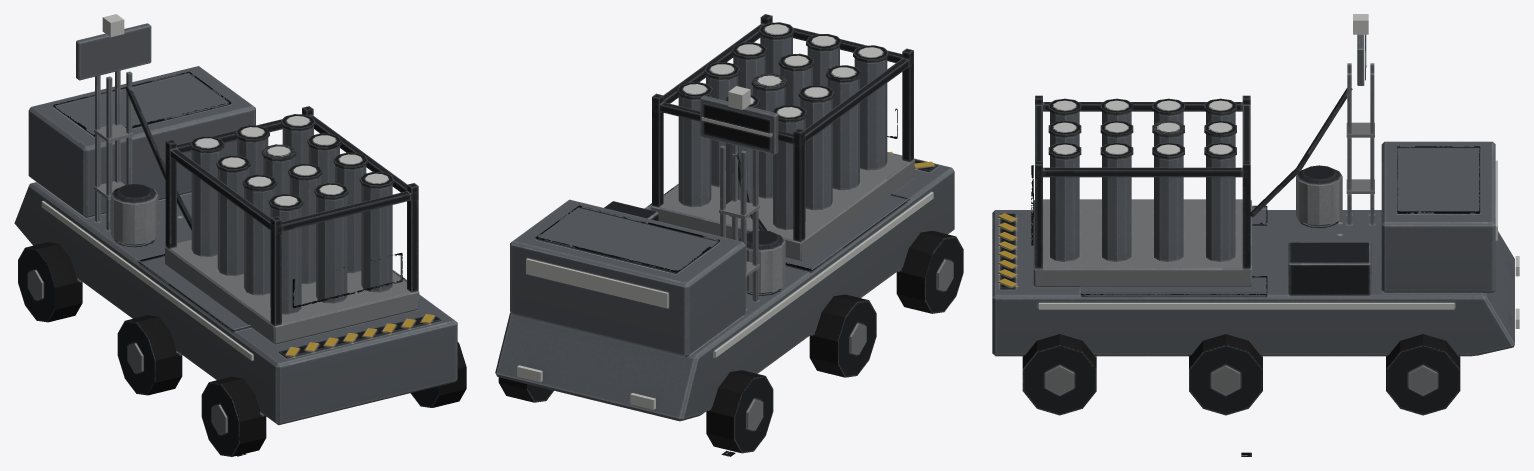
File: chs_griffin.fbx
3 views of the same model, side by side, from view 1: azimuth 30°, elevation 25°; view 2: azimuth 150°, elevation 25°; view 3: azimuth 270°, elevation 25° (orthographic). The views are drawn at different scales.
Parts seen in each view (by area): view 1: base_bar, launcher_bar, wheelL2_bar, wheelL3_bar, wheelL1_bar, radar_bar, launcher_glow_weapon_bar, base_glow_running_bar, wheelR3_bar; view 2: base_bar, launcher_bar, base_glow_running_bar, wheelL3_bar, wheelL1_bar, wheelL2_bar, radar_bar, launcher_glow_weapon_bar, wheelR1_bar, base_glow_head_bar; view 3: base_bar, launcher_bar, wheelR3_bar, wheelR1_bar, wheelR2_bar, base_glow_running_bar, launcher_glow_weapon_bar.
Part boxes in pixels (x1,y1,x2,y2): base_bar: (14,66,457,425); launcher_bar: (165,106,419,344); wheelL2_bar: (117,315,182,395); wheelL3_bar: (201,376,266,456); wheelL1_bar: (18,242,82,322); radar_bar: (76,23,151,80); launcher_glow_weapon_bar: (195,116,388,205); base_glow_running_bar: (41,14,253,360); wheelR3_bar: (410,342,466,407); base_bar: (495,144,954,421); launcher_bar: (651,14,914,260); base_glow_running_bar: (526,86,933,357); wheelL3_bar: (896,230,963,313); wheelL1_bar: (706,370,773,453); wheelL2_bar: (809,294,876,377); radar_bar: (700,95,778,154); launcher_glow_weapon_bar: (683,24,882,117); wheelR1_bar: (498,377,553,402); base_glow_head_bar: (517,365,655,409); base_bar: (992,63,1514,356); launcher_bar: (1031,95,1251,286); wheelR3_bar: (1022,334,1096,415); wheelR1_bar: (1386,334,1460,415); wheelR2_bar: (1189,334,1262,415); base_glow_running_bar: (1039,14,1497,309); launcher_glow_weapon_bar: (1054,100,1231,154).
Size of the model in its own units: 508 by 860 by 1016.
2 materials, 2 textured.
